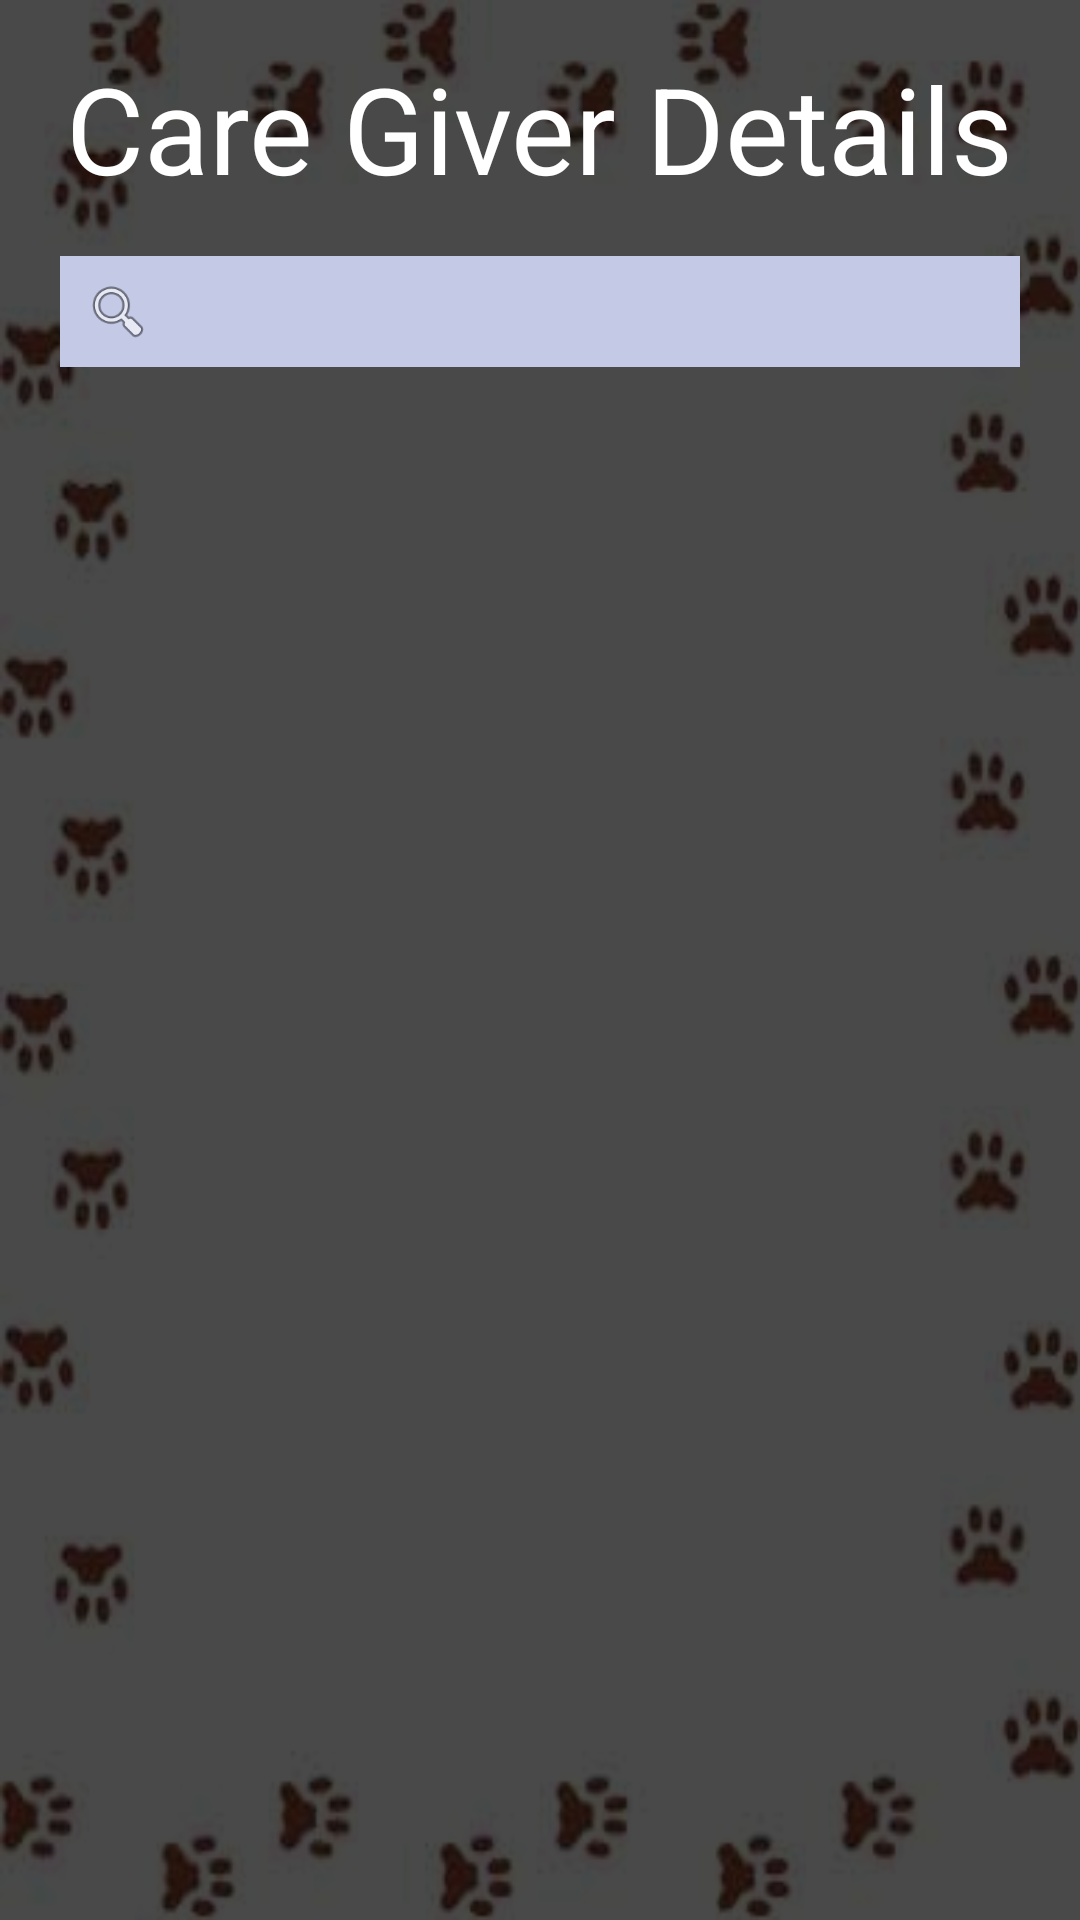

Point at icon controls on the screen. Image size 1080w x 1920h, points as (x=x, y=y).
search: (x=117, y=311)
